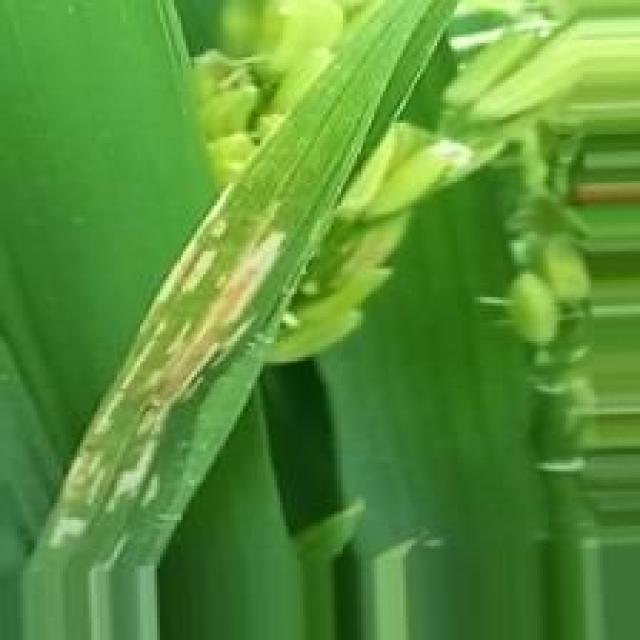Rice_Hispa: (117, 234, 283, 502), (150, 237, 217, 309)
